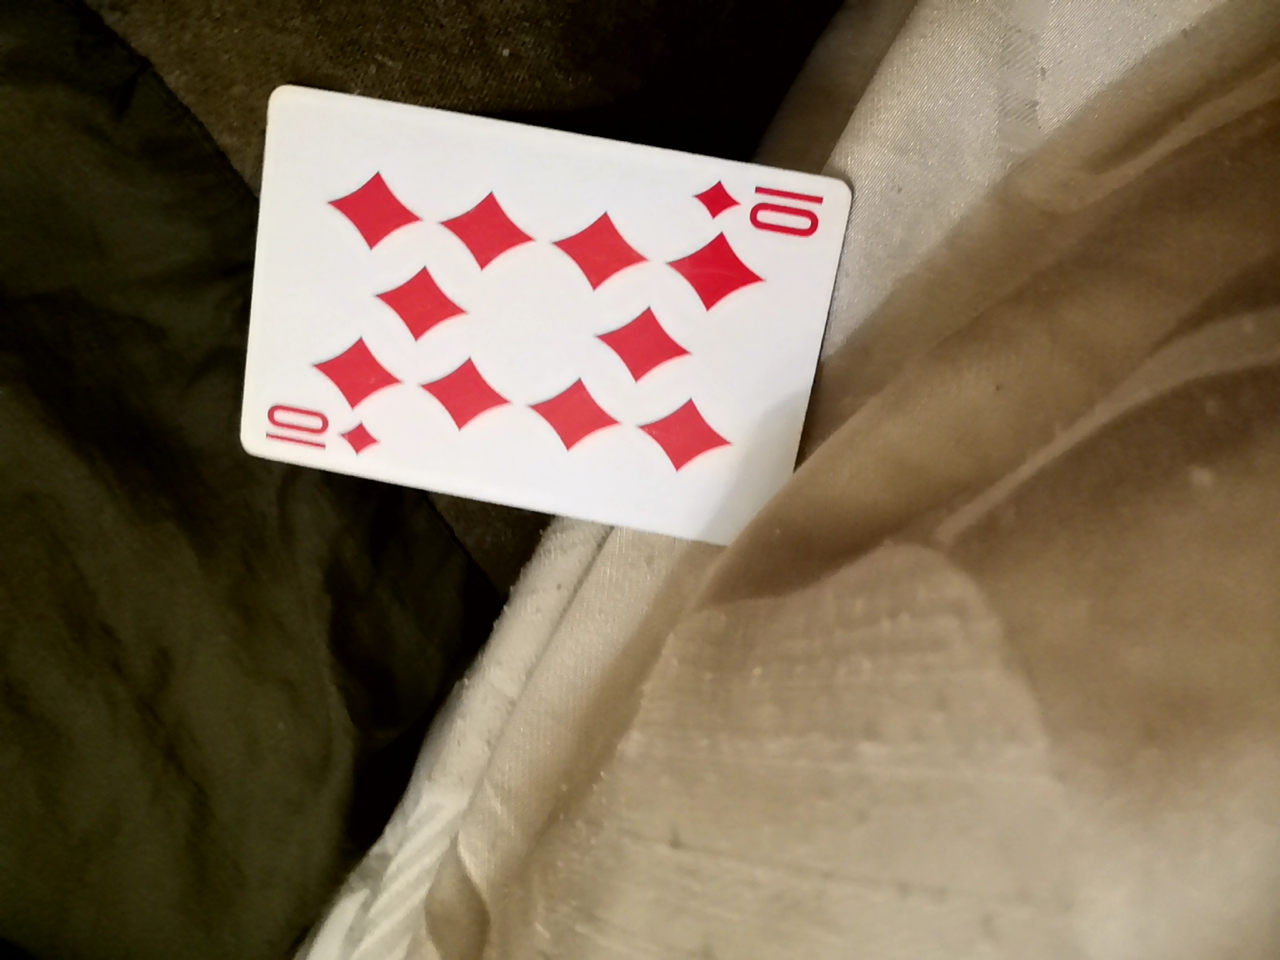fk 10: (227, 88, 853, 537)
